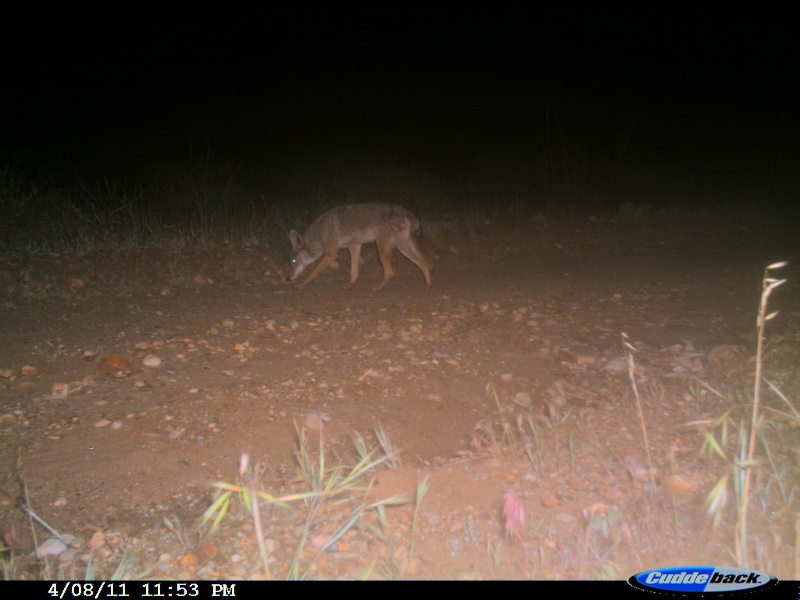coyote: (281, 198, 441, 296)
